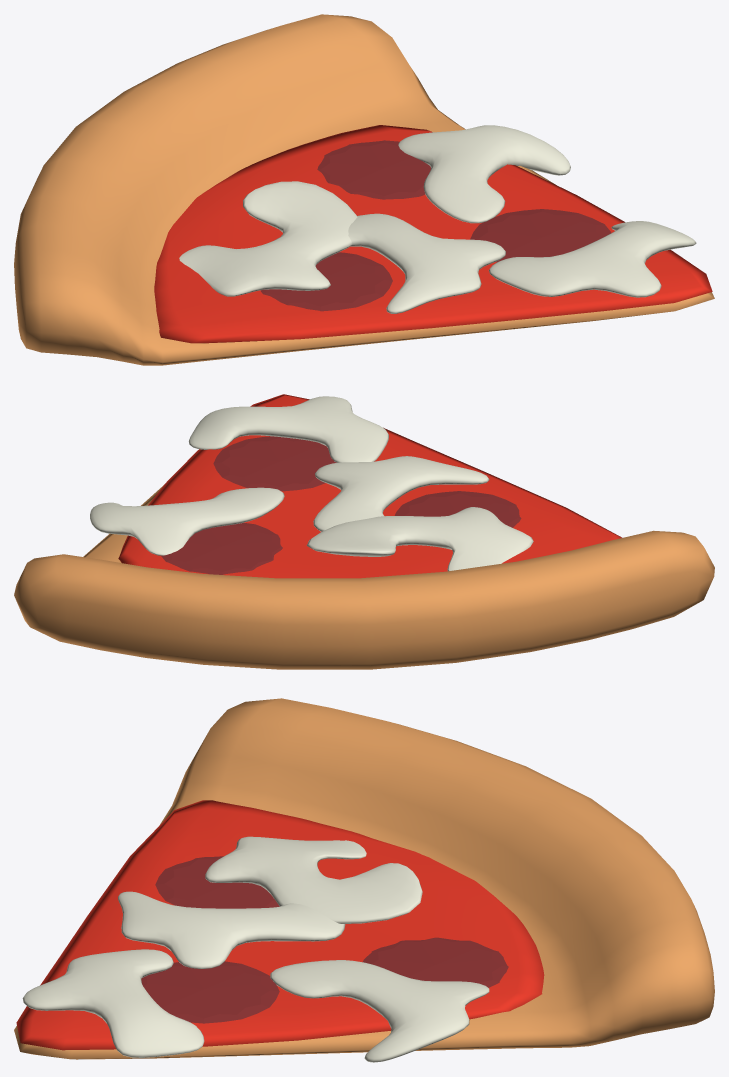
The model's file is Pizza.glb.
3 renders of one model, top to bottom at view 1: azimuth 30°, elevation 25°; view 2: azimuth 150°, elevation 25°; view 3: azimuth 270°, elevation 25°, orthographic. The views are drawn at different scales.
Visible parts, largest first — view 1: PizzaBase, PizzaTomato, Cheese.001, Cheese.003, Cheese.002, Cheese, Pepperoni.002, Pepperoni.001, Pepperoni; view 2: PizzaBase, PizzaTomato, Cheese.001, Cheese.002, Cheese.003, Cheese, Pepperoni.001, Pepperoni.002, Pepperoni; view 3: PizzaBase, PizzaTomato, Cheese.001, Cheese.002, Cheese.003, Cheese, Pepperoni.001, Pepperoni.002, Pepperoni.
Boxes of the visible parts, bbox=[...] form: PizzaBase: bbox=[14, 14, 714, 365]; PizzaTomato: bbox=[154, 125, 712, 343]; Cheese.001: bbox=[179, 181, 357, 296]; Cheese.003: bbox=[398, 125, 570, 223]; Cheese.002: bbox=[488, 221, 696, 297]; Cheese: bbox=[348, 213, 505, 313]; Pepperoni.002: bbox=[317, 140, 430, 199]; Pepperoni.001: bbox=[470, 209, 611, 262]; Pepperoni: bbox=[260, 252, 392, 311]; PizzaBase: bbox=[14, 485, 714, 669]; PizzaTomato: bbox=[118, 394, 622, 578]; Cheese.001: bbox=[306, 507, 533, 571]; Cheese.002: bbox=[188, 396, 388, 462]; Cheese.003: bbox=[90, 487, 284, 555]; Cheese: bbox=[313, 456, 489, 531]; Pepperoni.001: bbox=[213, 436, 336, 491]; Pepperoni.002: bbox=[161, 522, 282, 574]; Pepperoni: bbox=[394, 491, 521, 527]; PizzaBase: bbox=[14, 698, 714, 1059]; PizzaTomato: bbox=[16, 800, 544, 1050]; Cheese.001: bbox=[205, 836, 422, 923]; Cheese.002: bbox=[22, 949, 204, 1057]; Cheese.003: bbox=[270, 960, 489, 1062]; Cheese: bbox=[118, 891, 345, 968]; Pepperoni.001: bbox=[141, 961, 279, 1023]; Pepperoni.002: bbox=[363, 937, 508, 987]; Pepperoni: bbox=[155, 856, 279, 908].
Size of the model in its own units: 1.88 by 0.2455 by 1.78.
